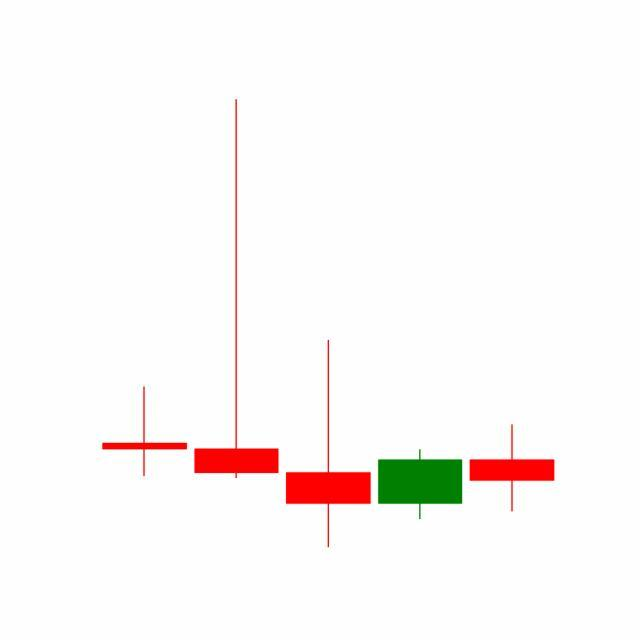Spinning Top: (466, 423, 559, 513)
